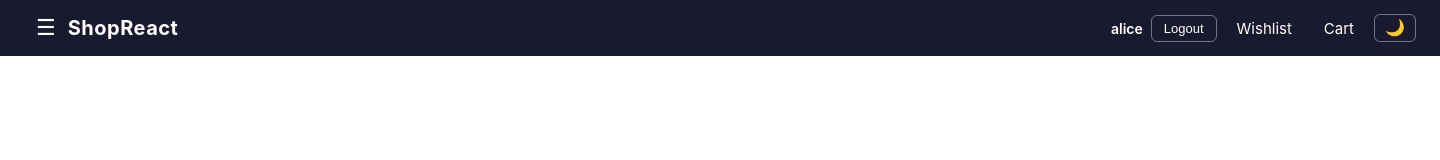
Navbar — logged in state › clicking Logout removes shopCurrentUser and shows Login/Register links
The width and height of the screenshot is (1440, 160).
Click the button "Logout" at [1184, 28], box [1151, 14, 1217, 42]
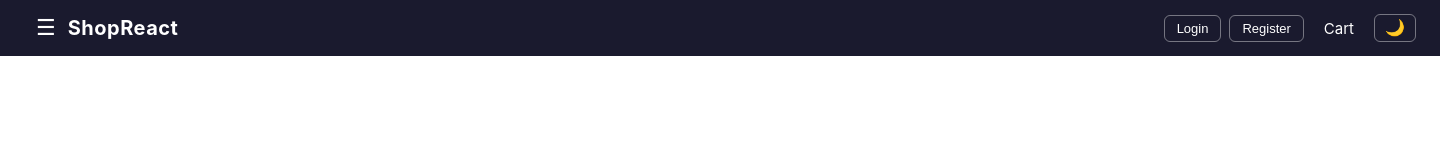
Expected: the button "Login" is shown, [1164, 14, 1221, 42]
Expected: the button "Register" is shown, [1229, 14, 1304, 42]
